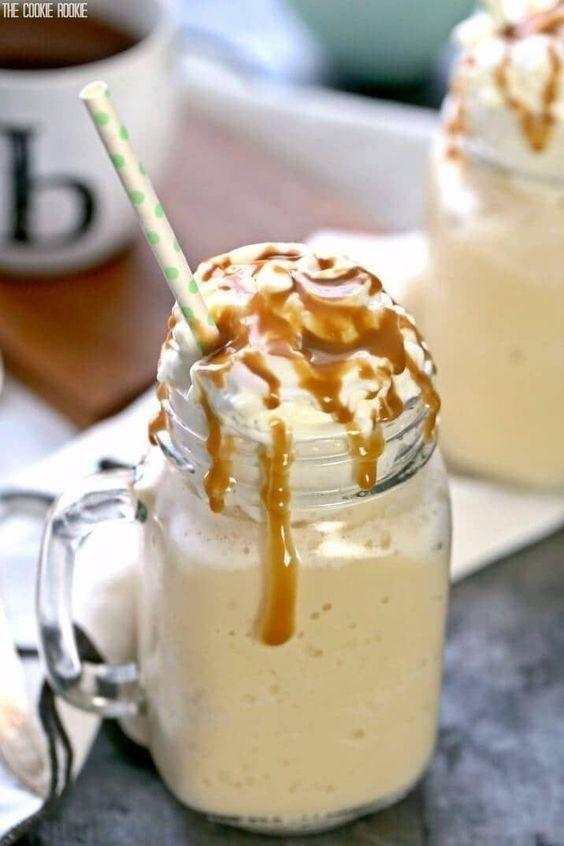glass-mug: (30, 245, 460, 839)
